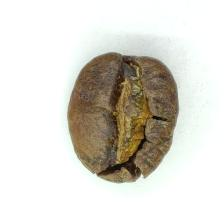NG: (95, 56, 170, 180)
